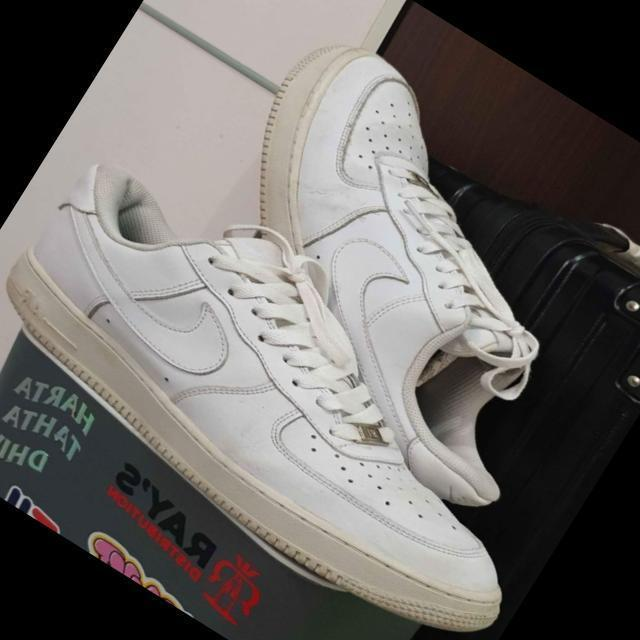nike original air force: (0, 136, 602, 640), (129, 16, 640, 542)
